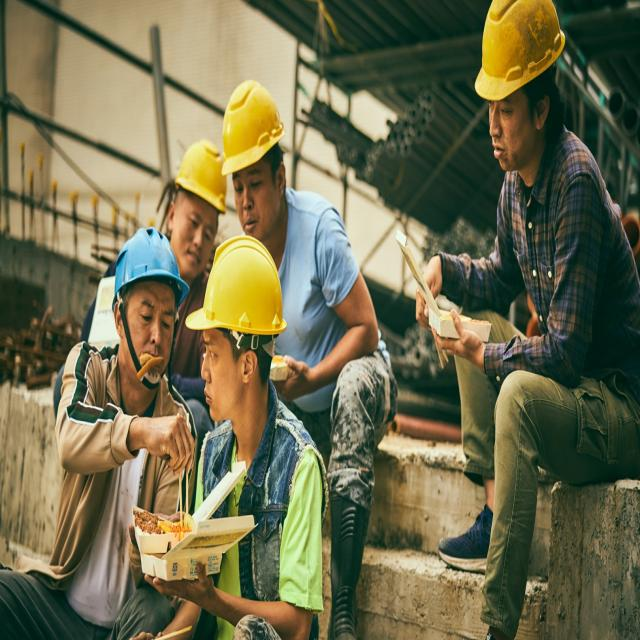Reflective-Jacket: (51, 348, 201, 640)
Safety-Helmet: (187, 233, 288, 340), (474, 1, 566, 103), (218, 76, 289, 182), (110, 221, 186, 305), (170, 136, 227, 218)
